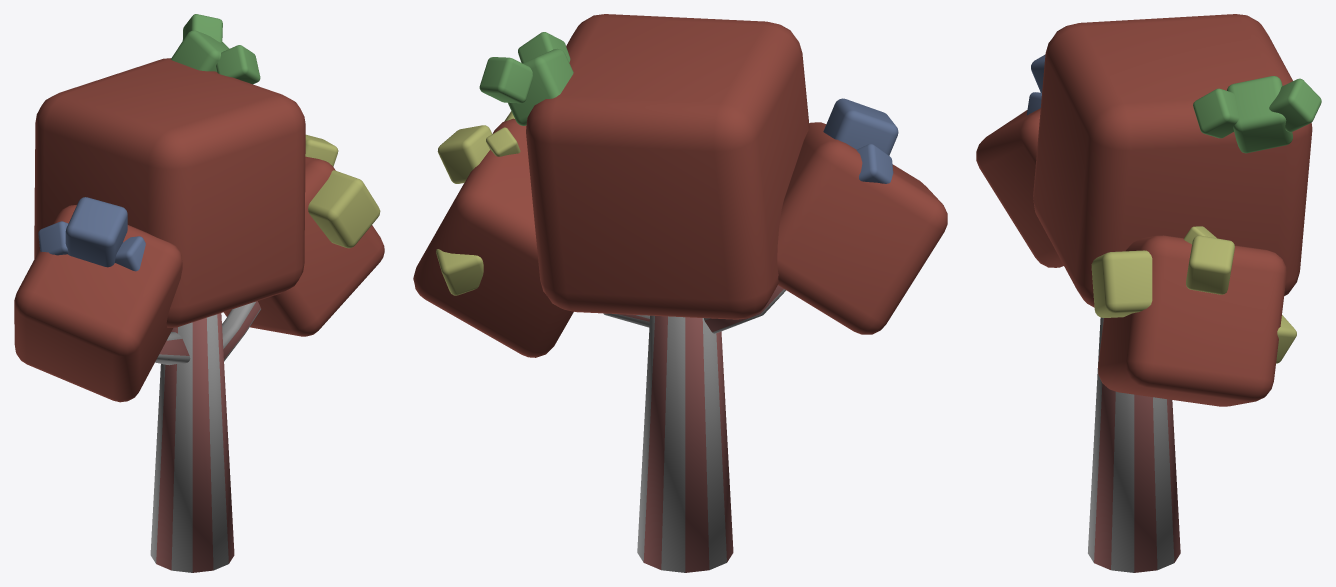
File: treeMellowred.fbx
3 views of the same model, side by side, from view 1: azimuth 30°, elevation 25°; view 2: azimuth 150°, elevation 25°; view 3: azimuth 270°, elevation 25° (orthographic). The views are drawn at different scales.
Parts seen in each view (by area): view 1: Roundcube.002, Cube.002, Roundcube.001, Roundcube.005, Roundcube.004; view 2: Roundcube.002, Cube.002, Roundcube.004, Roundcube.005, Roundcube.001; view 3: Roundcube.002, Cube.002, Roundcube.005, Roundcube.004, Roundcube.001.
Part boxes in pixels (x1,y1,x2,y2): Roundcube.002: [14, 58, 384, 402]; Cube.002: [150, 301, 260, 572]; Roundcube.001: [38, 197, 145, 271]; Roundcube.005: [305, 134, 380, 248]; Roundcube.004: [171, 14, 260, 84]; Roundcube.002: [413, 14, 947, 357]; Cube.002: [603, 285, 785, 572]; Roundcube.004: [479, 32, 573, 125]; Roundcube.005: [436, 111, 520, 295]; Roundcube.001: [823, 98, 898, 183]; Roundcube.002: [976, 14, 1312, 406]; Cube.002: [1088, 317, 1180, 572]; Roundcube.005: [1091, 226, 1296, 363]; Roundcube.004: [1193, 76, 1321, 153]; Roundcube.001: [1026, 55, 1045, 115].
Size of the model in its own units: 1090 by 1227 by 744.
